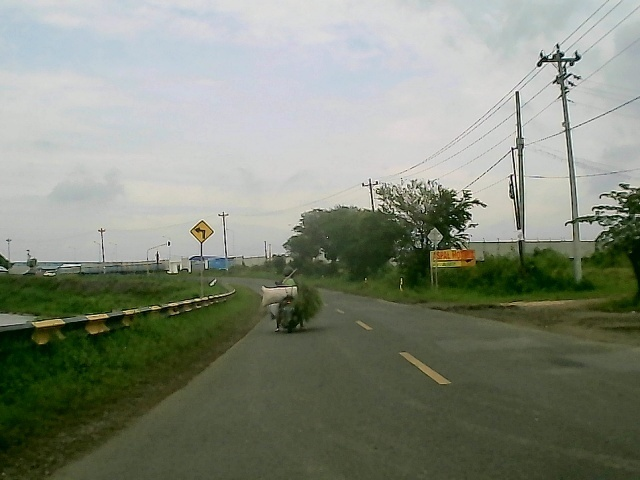Tikungan tajam ke kiri: (187, 219, 215, 244)
